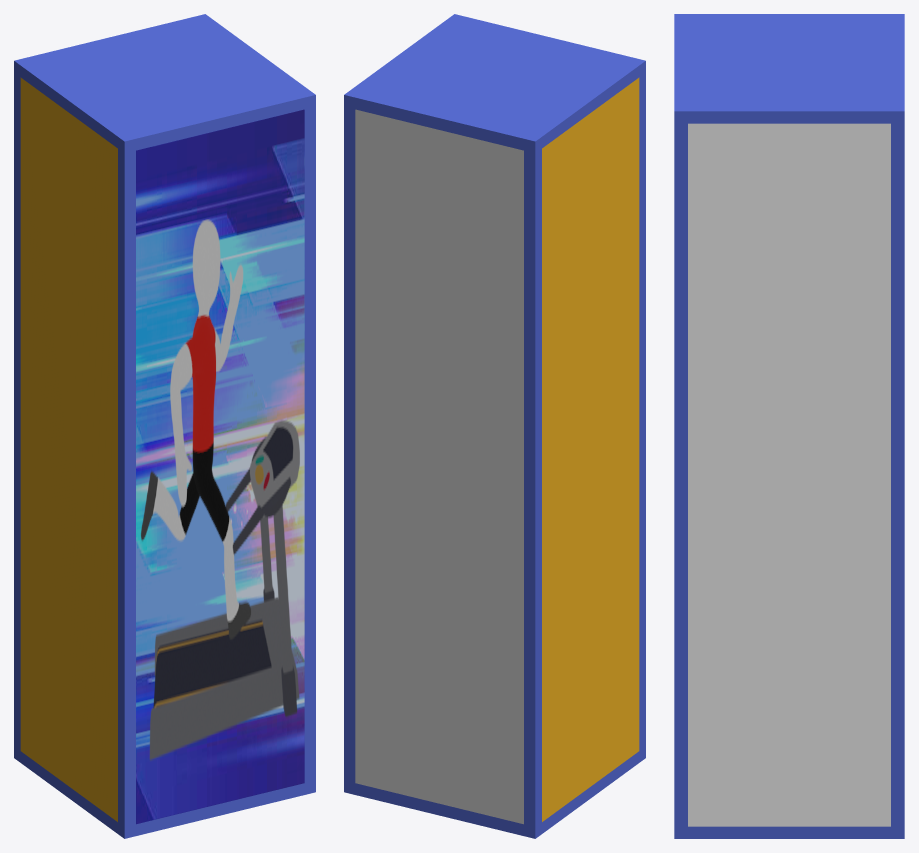
Rendered from banner_column1.fbx.
3 views of the same model, side by side, from view 1: azimuth 30°, elevation 25°; view 2: azimuth 150°, elevation 25°; view 3: azimuth 270°, elevation 25° (orthographic). The views are drawn at different scales.
Visible parts, largest first — view 1: Cube; view 2: Cube; view 3: Cube.
Part boxes in pixels (bbox=[...]): Cube: bbox=[14, 14, 315, 838]; Cube: bbox=[344, 14, 645, 838]; Cube: bbox=[674, 14, 904, 838].
Bounding box in the file's own units: 2 × 6.97 × 2.
